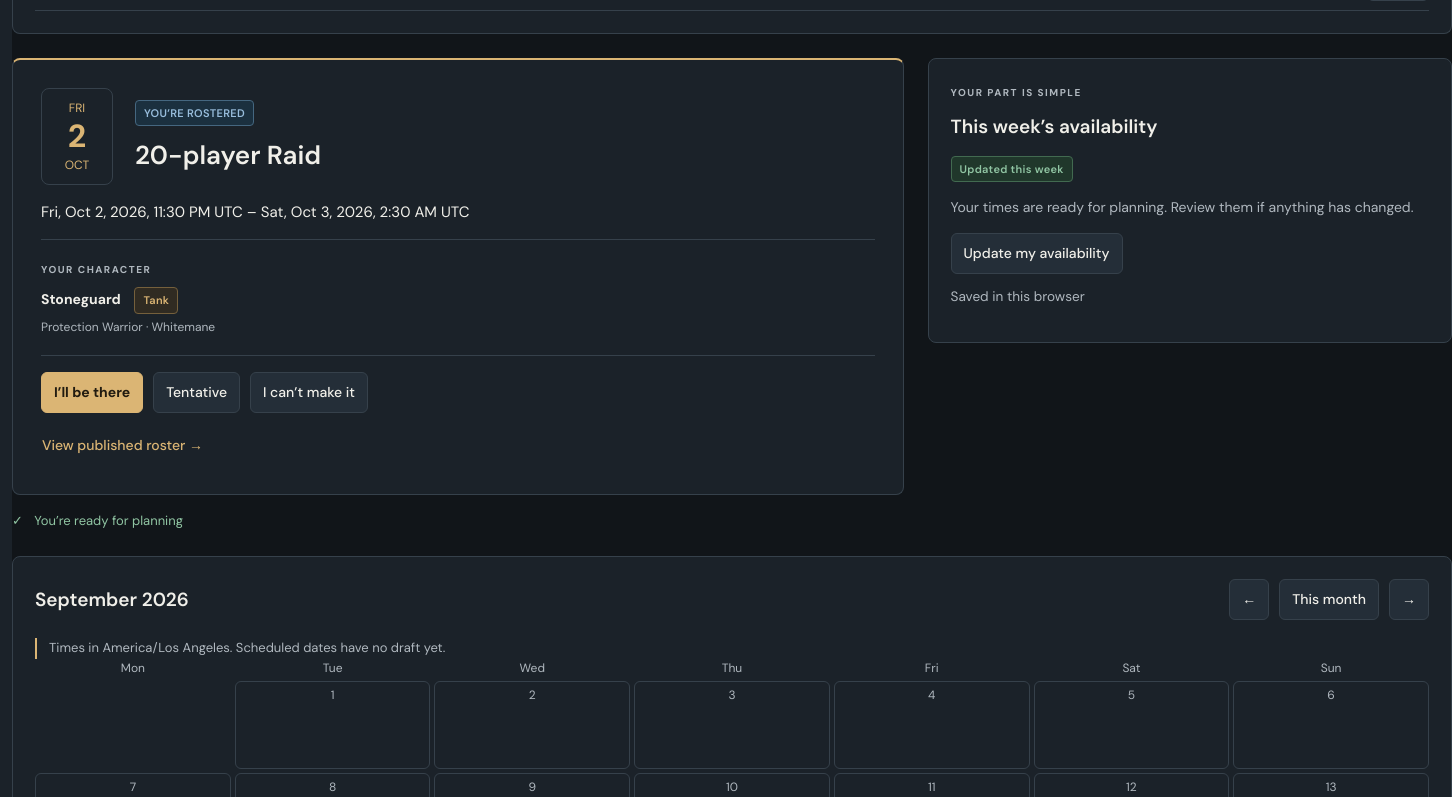
Test: a rostered player confirms their place, then reports a late problem with a note
The width and height of the screenshot is (1452, 797).
(page scrolled)
Click the button "Tentative" at (197, 393), box [153,372,240,413]
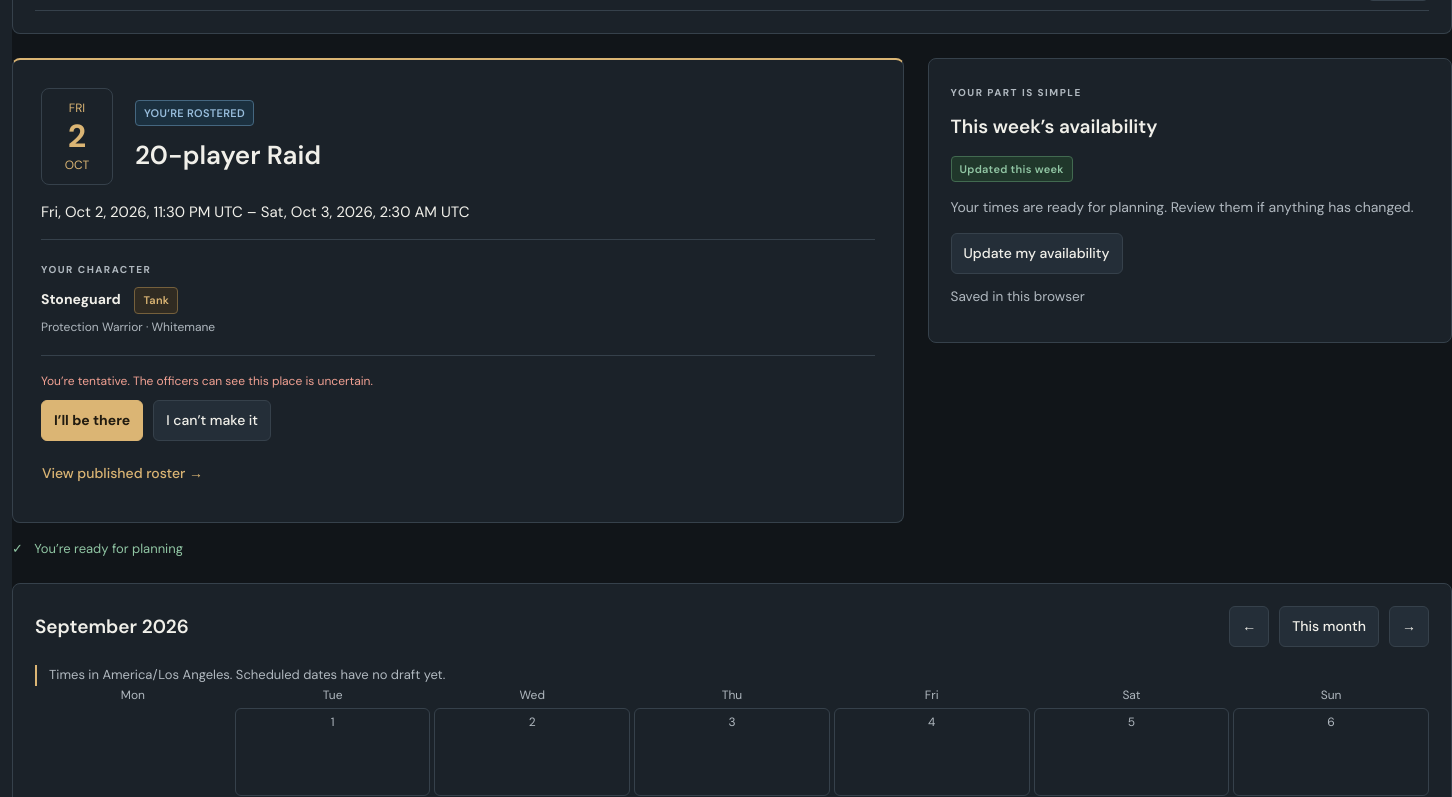
Result: the text "You’re tentative" is shown at [41,373,373,389]
Click the button "I’ll be there" at (92, 420), box [41,400,143,441]
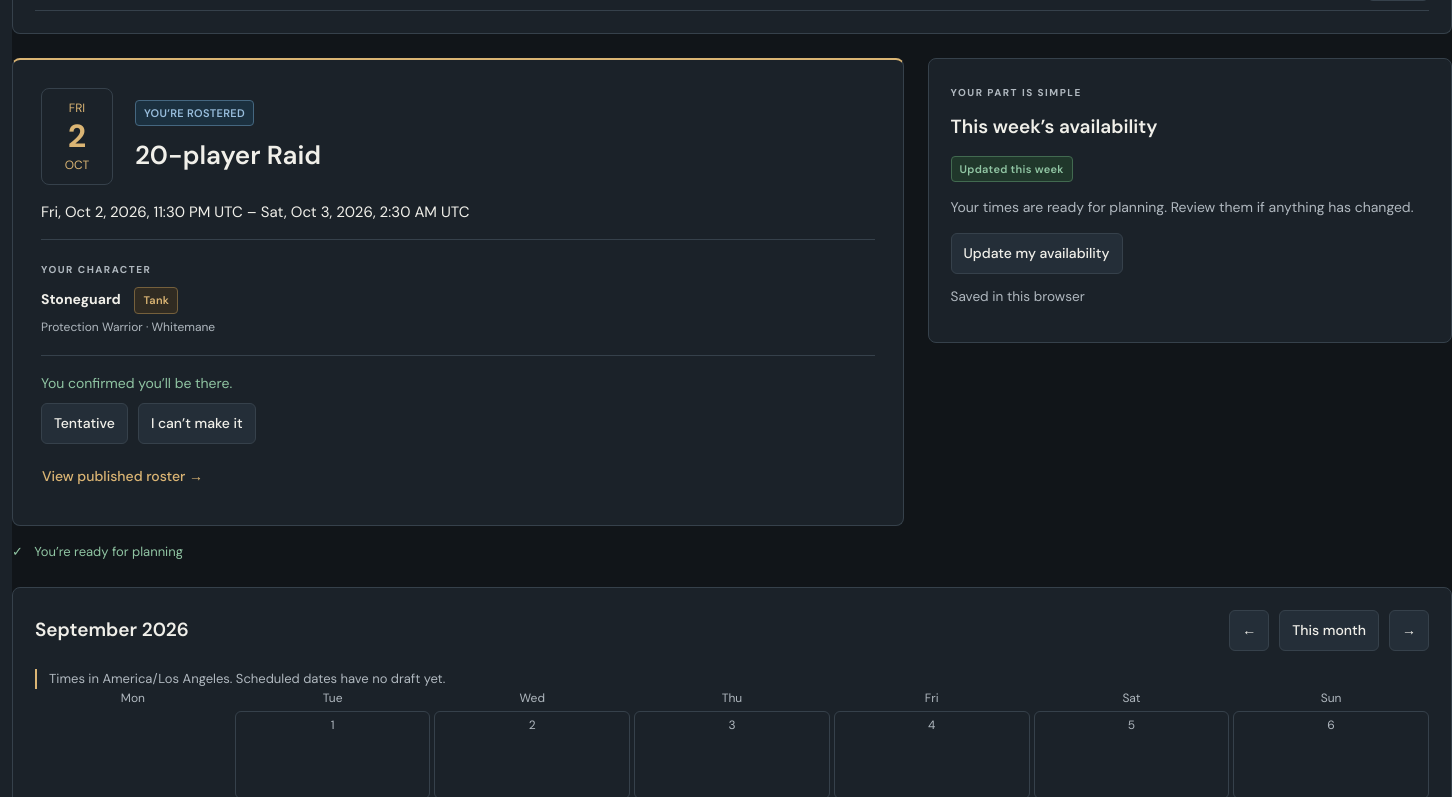
Result: the text "You confirmed you’ll be there." is shown at [41,374,232,392]
Result: the button "I’ll be there" is gone
Click the button "I can’t make it" at (197, 423), box [138,403,256,444]
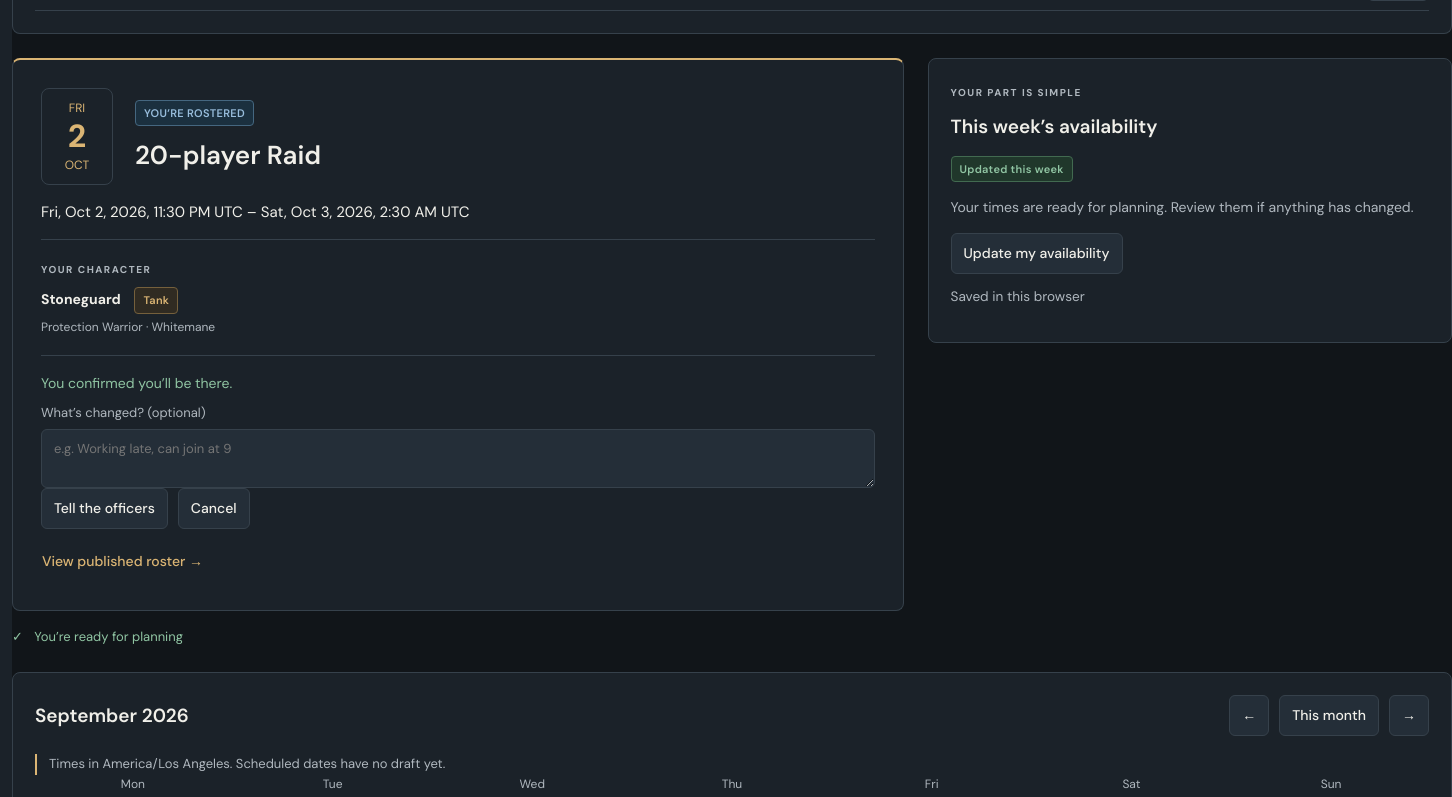
Type "Working late" into the text box labelled "What’s changed? (optional)" at (458, 459), box [41,429,874,488]
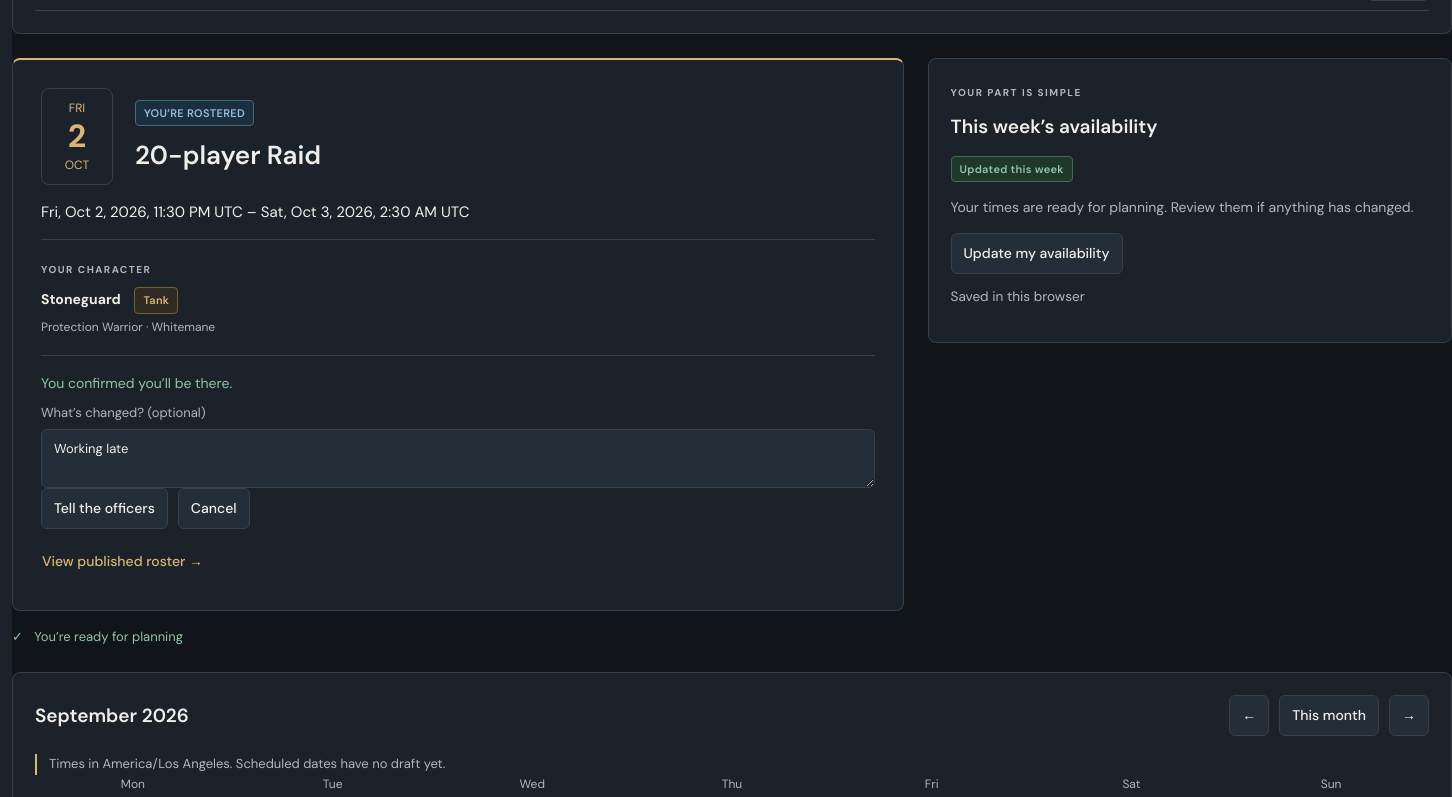
Click the button "Tell the officers" at (104, 509), box [41,488,168,529]
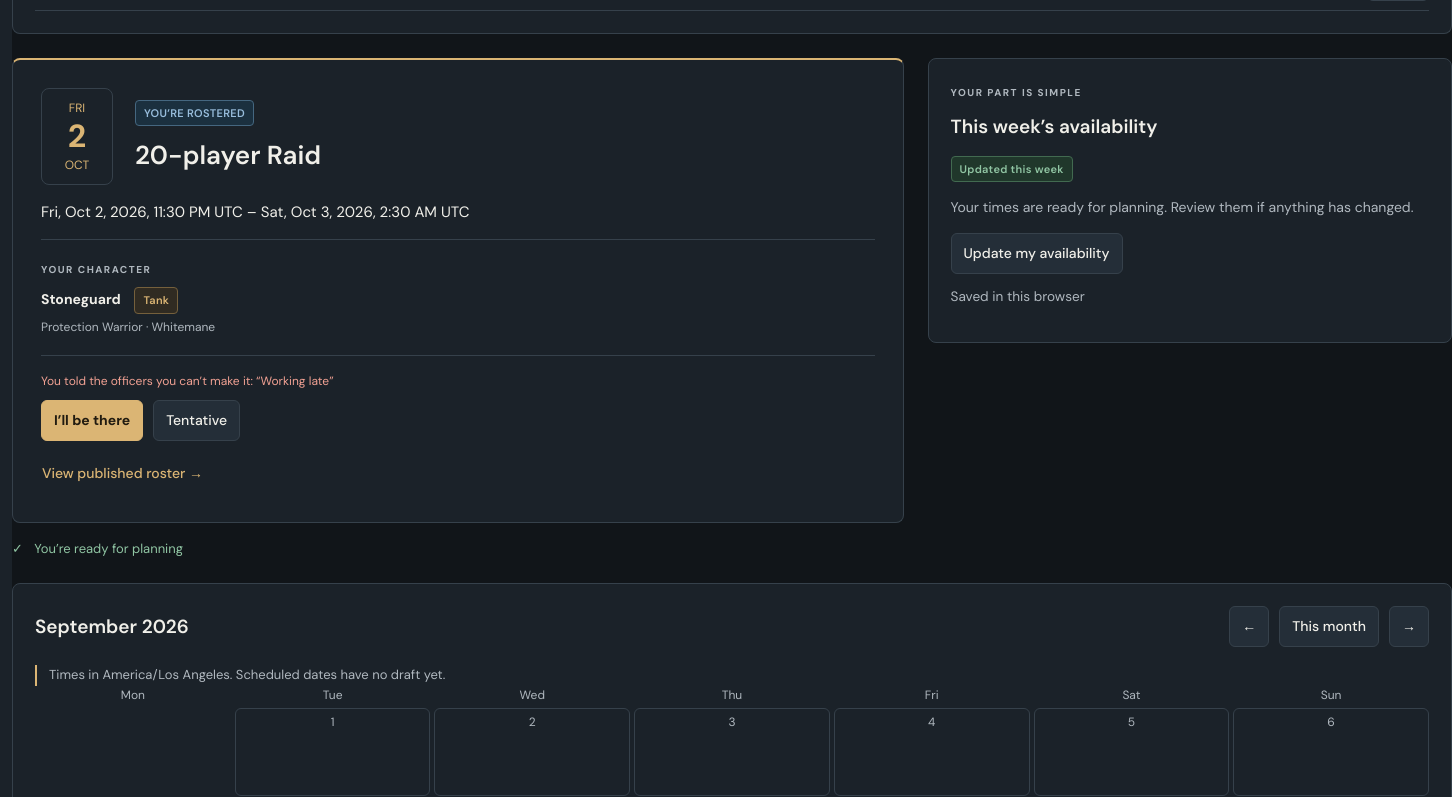
Result: the text "You told the officers you can’t make it: “Working late”" is shown at [41,373,334,389]
